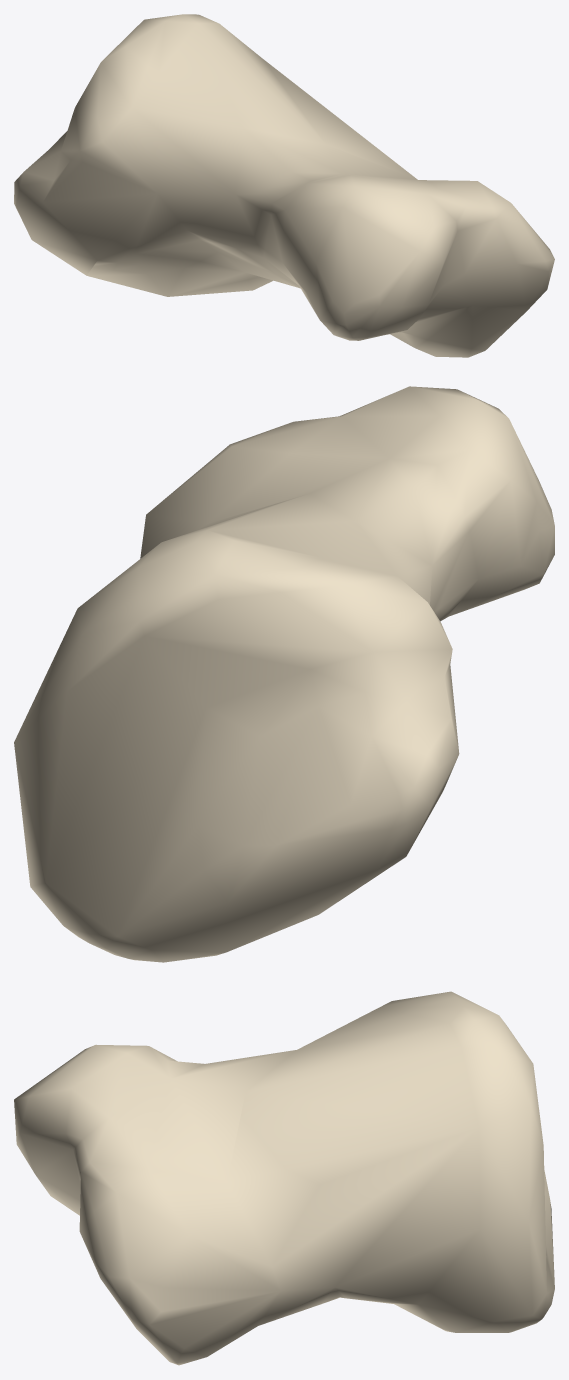
File: middle-phalanx-of-fourth-finger-of-foot-l.glb
3 renders of one model, top to bottom at view 1: azimuth 30°, elevation 25°; view 2: azimuth 150°, elevation 25°; view 3: azimuth 270°, elevation 25°, orthographic. The views are drawn at different scales.
Parts seen in each view (by area): view 1: Middle phalanx of fourth finger of foot.l; view 2: Middle phalanx of fourth finger of foot.l; view 3: Middle phalanx of fourth finger of foot.l.
Part boxes in pixels (box(x1,y1,x2,y2)): Middle phalanx of fourth finger of foot.l: box(14, 14, 554, 357); Middle phalanx of fourth finger of foot.l: box(14, 386, 554, 962); Middle phalanx of fourth finger of foot.l: box(14, 991, 554, 1365).
Bounding box in the file's own units: 0.0111 × 0.00834 × 0.0141.
